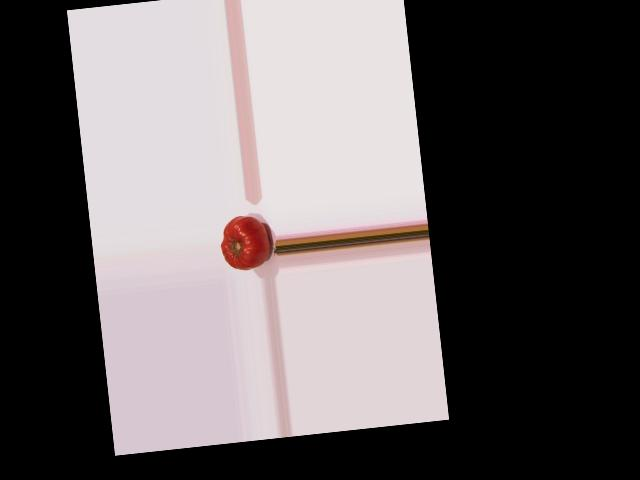tomato: (218, 213, 271, 272)
